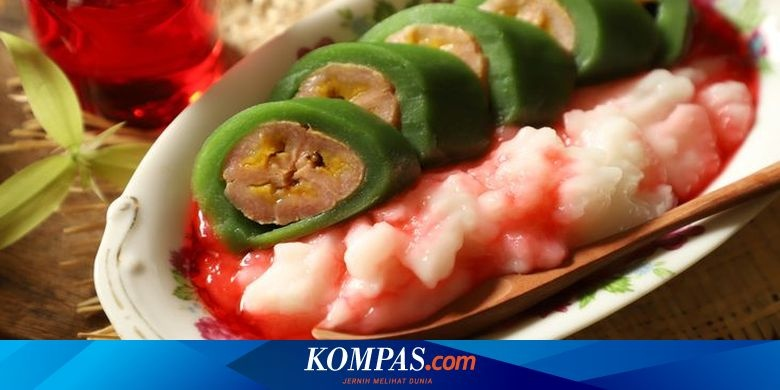es_pisang_ijo: (183, 1, 762, 338)
